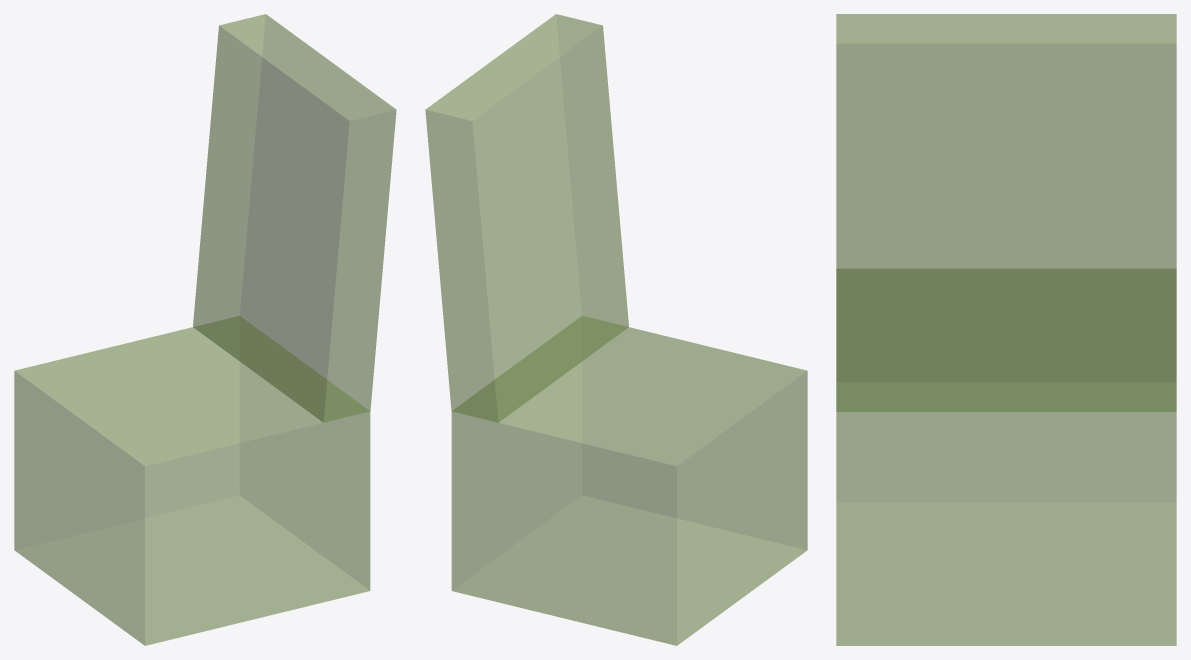
Rendered from chair_01_COL.fbx.
3 renders of one model, left to right at view 1: azimuth 30°, elevation 25°; view 2: azimuth 150°, elevation 25°; view 3: azimuth 270°, elevation 25°, orthographic. The views are drawn at different scales.
Parts seen in each view (by area): view 1: chair_01_COL; view 2: chair_01_COL; view 3: chair_01_COL.
Boxes of the visible parts, box(x1,y1,x2,y2) form: chair_01_COL: box(14, 14, 396, 645); chair_01_COL: box(425, 14, 807, 645); chair_01_COL: box(836, 14, 1176, 645).
Size of the model in its own units: 90.17 by 163 by 81.16.
